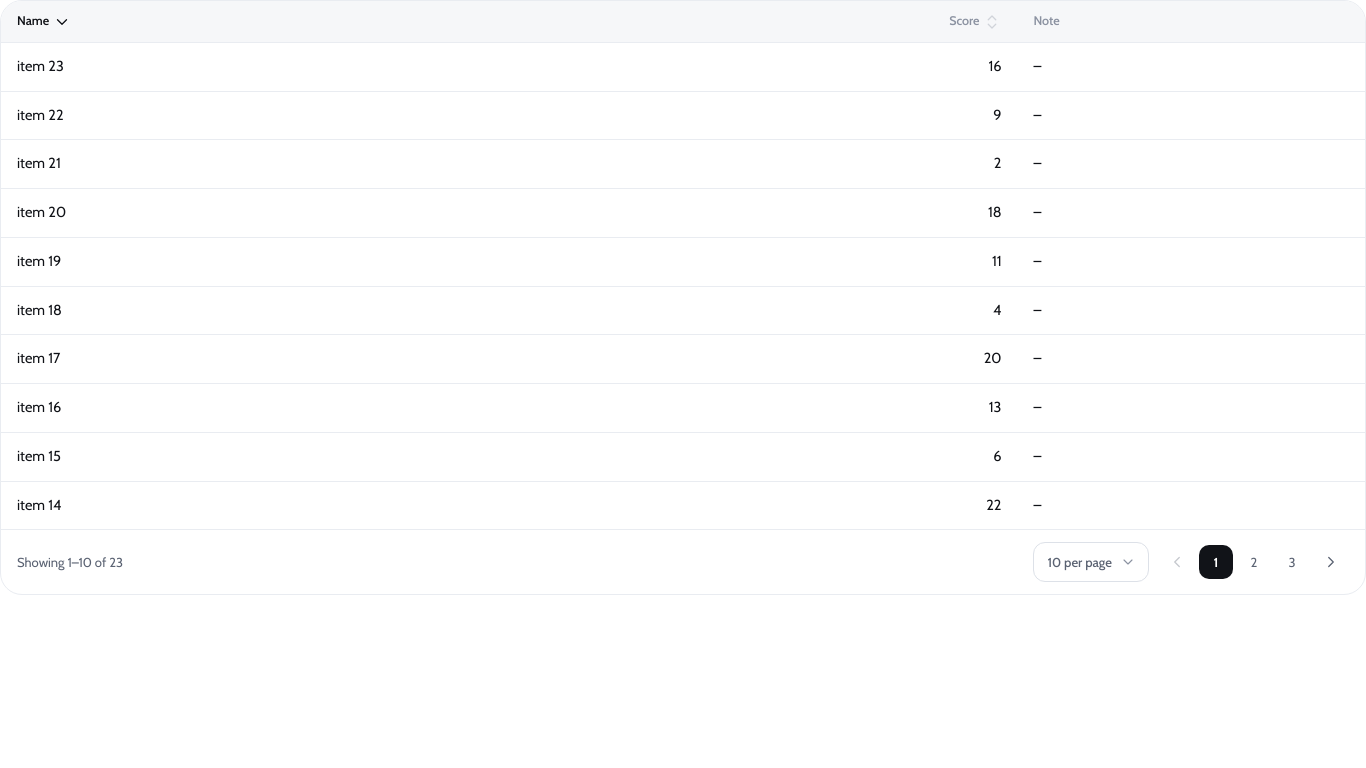
DataTable sorting, paging, selection and empty state › changing the page size goes back to page 1 and keeps the sort (no tableId)
This screenshot has width=1366, height=768.
Click the button named "Next page" at (1331, 562), box [1313,545,1349,579]
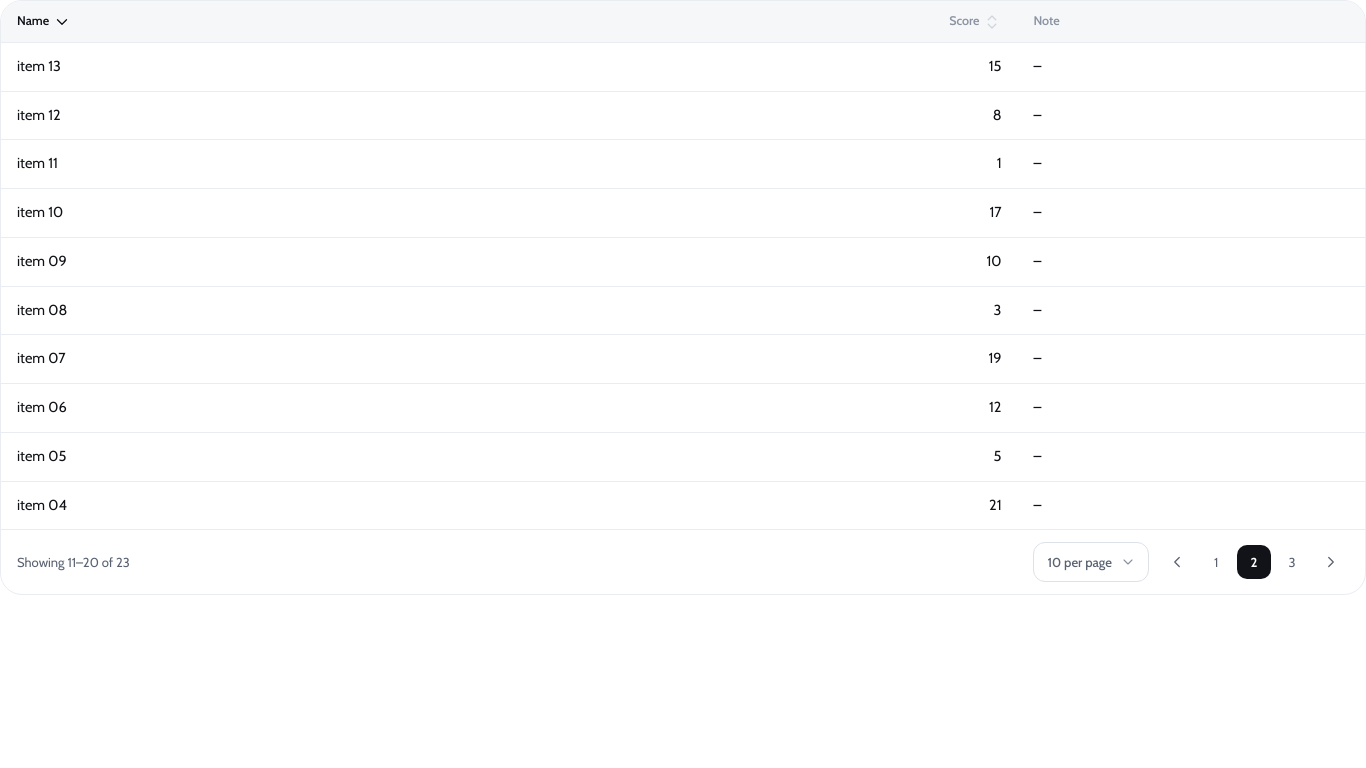
Click the button with aria-label "Rows per page" at (1091, 562), box [1032,542,1149,582]
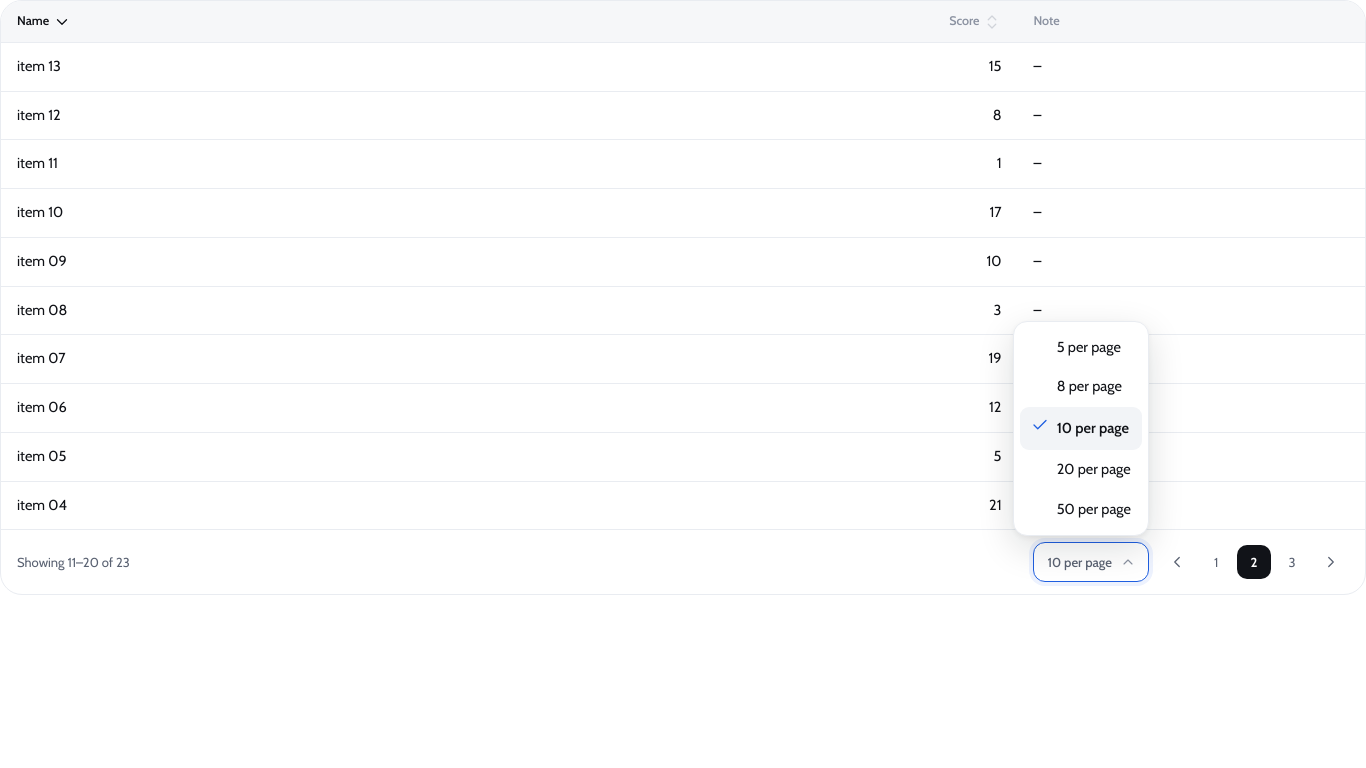
Click the option "5 per page" at (1081, 348), box [1020,328,1142,368]
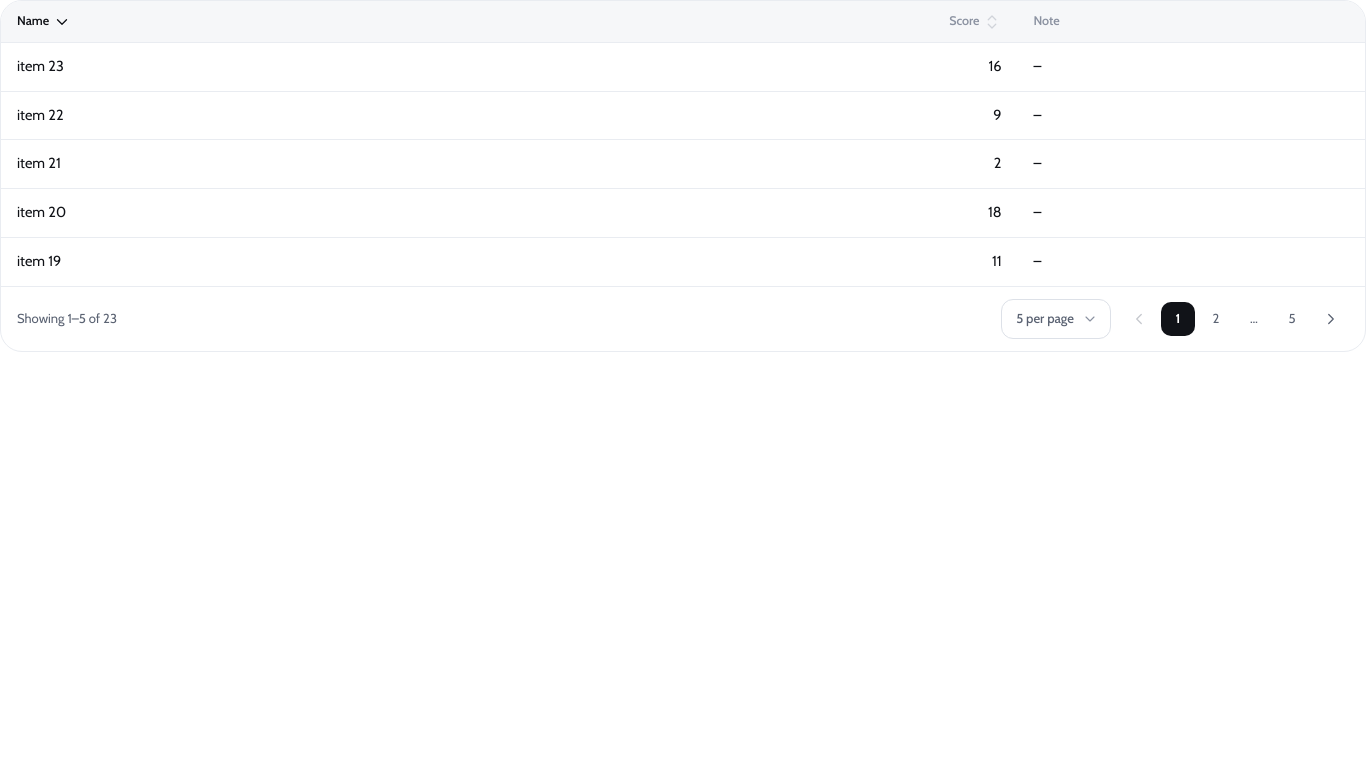
Expected: the text with class "num" reads "Showing 1–5 of 23", [17,310,117,326]
